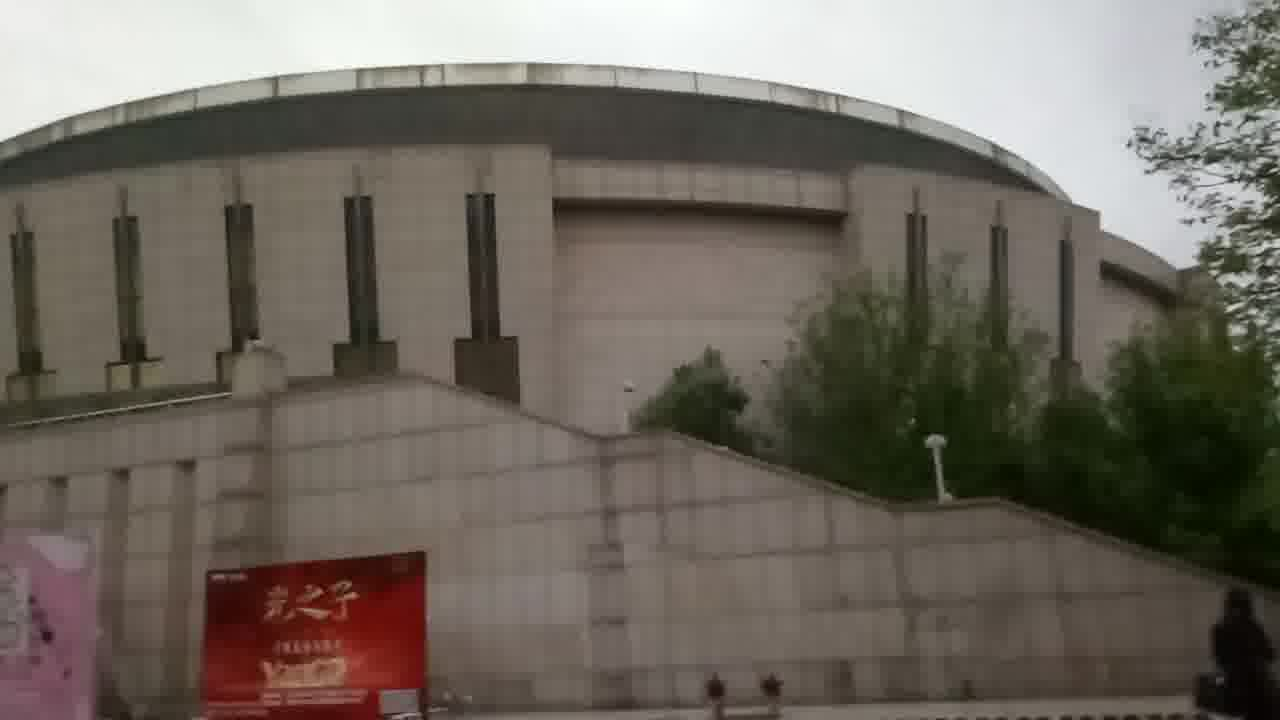zhongtiww: (12, 54, 1270, 720)
